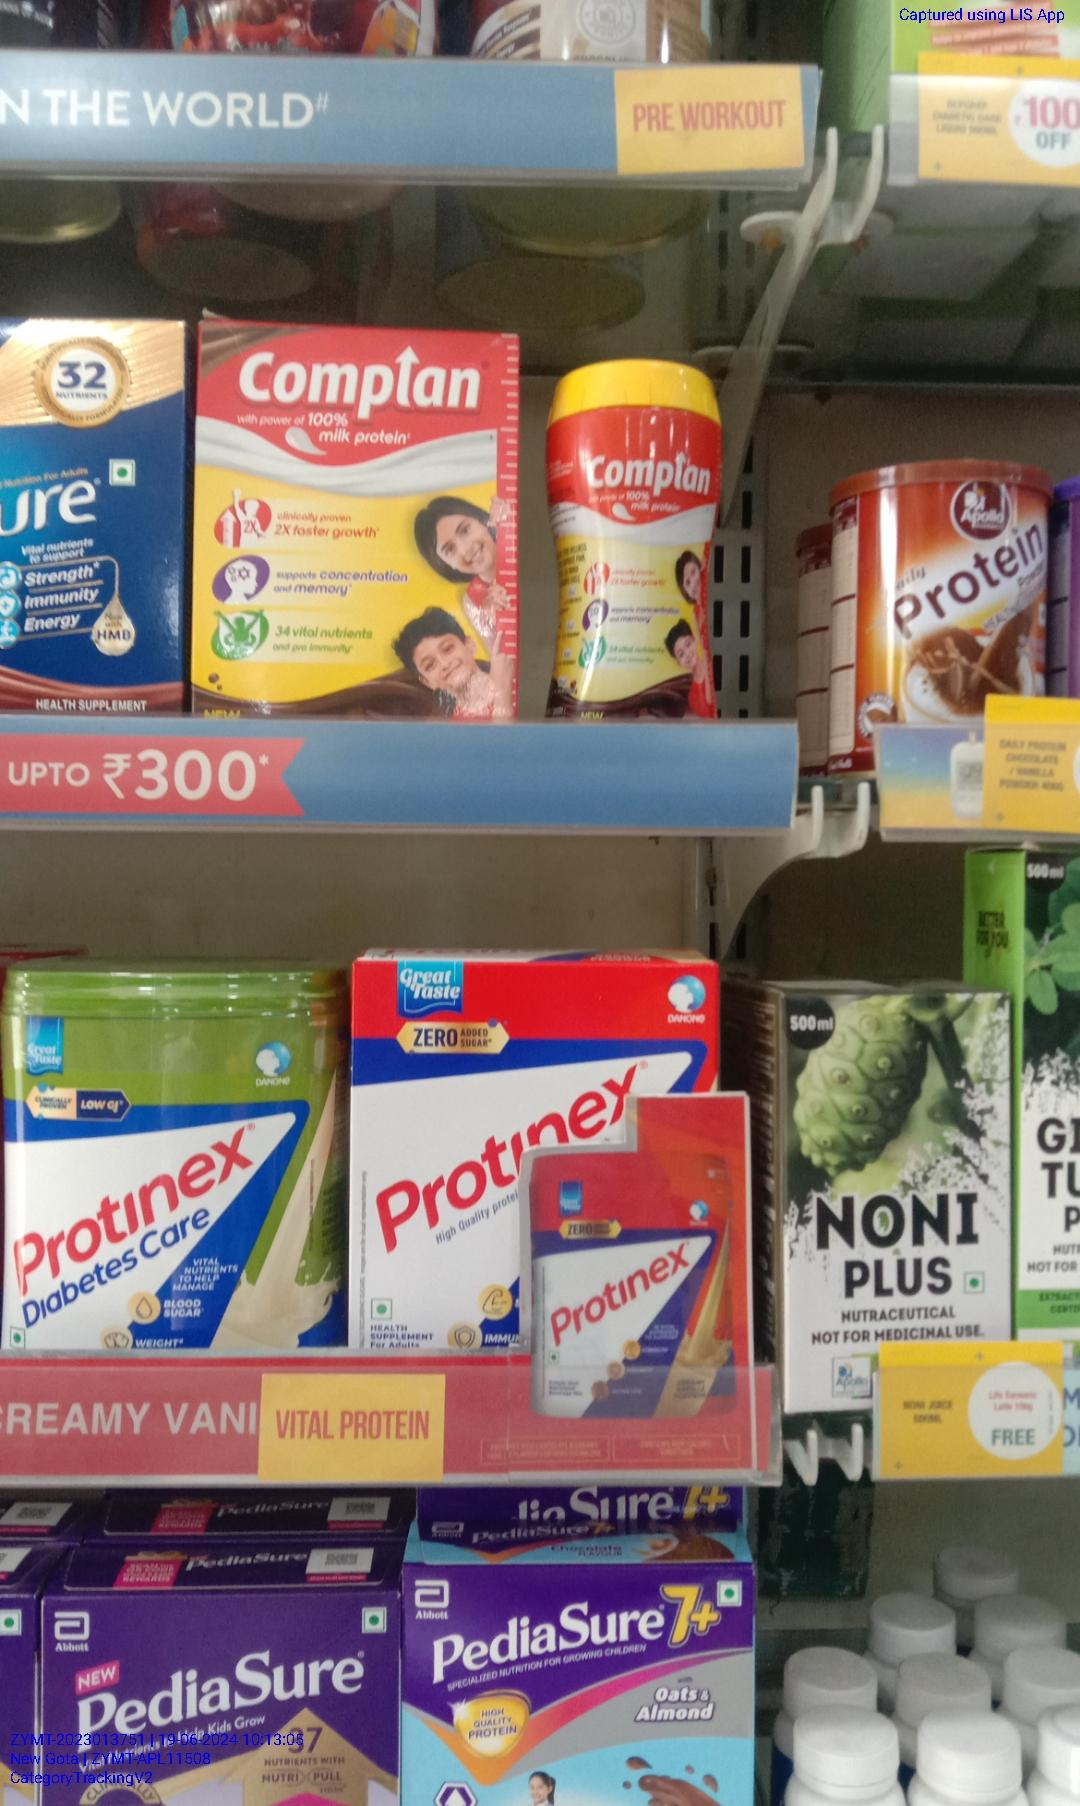COMPLAN_CHOCOLATE_200_GMS_JAR: (543, 364, 714, 710)
